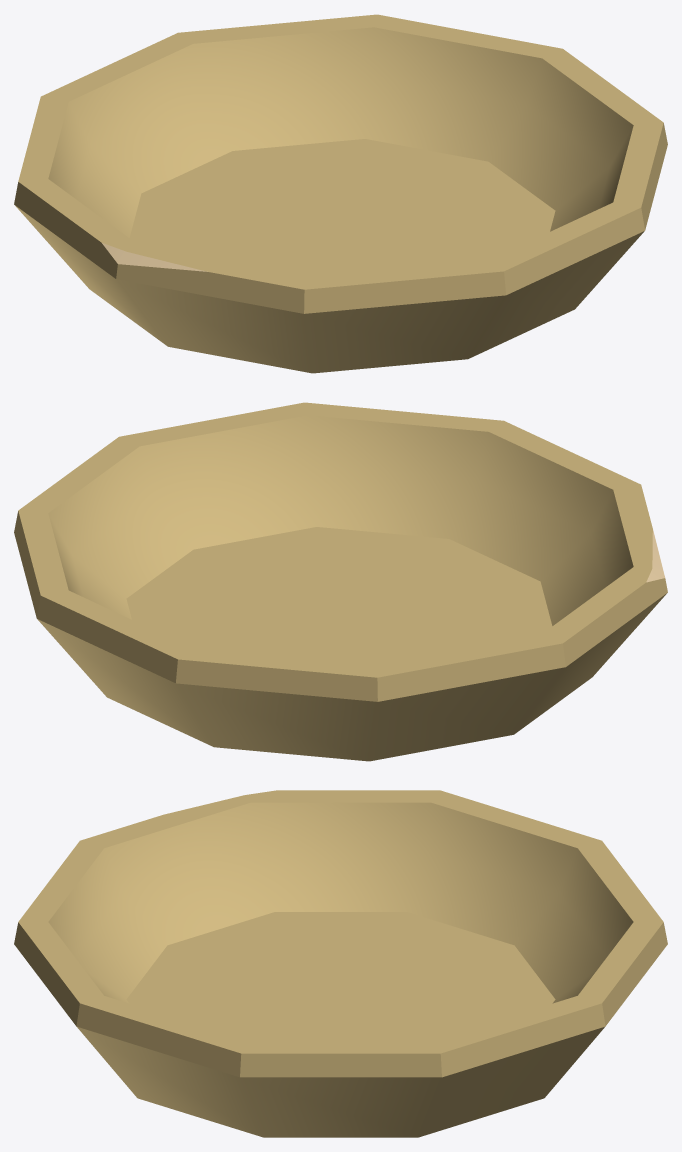
File: EA_Items_House_bowl_wod.glb
The picture shows the model from 3 angles, top to bottom: view 1: azimuth 30°, elevation 25°; view 2: azimuth 150°, elevation 25°; view 3: azimuth 270°, elevation 25°; orthographic projection.
Visible parts, largest first — view 1: EA_Items_House_bowl_wod; view 2: EA_Items_House_bowl_wod; view 3: EA_Items_House_bowl_wod.
Boxes of the visible parts, x1,y1,x2,y2 form: EA_Items_House_bowl_wod: (14, 14, 667, 373); EA_Items_House_bowl_wod: (14, 402, 667, 761); EA_Items_House_bowl_wod: (14, 790, 667, 1137).
Bounding box in the file's own units: 0.3849 × 0.0761 × 0.3991.
1 material, 1 textured.
